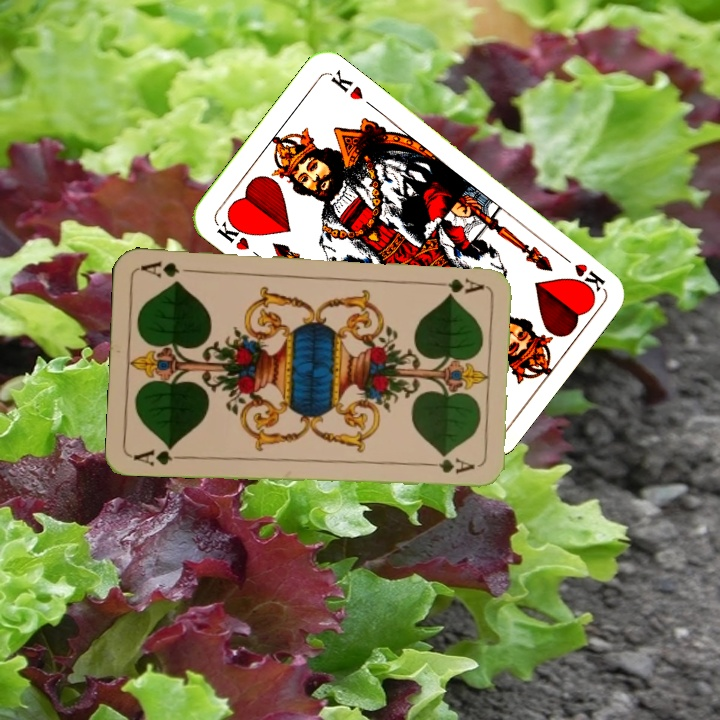GA: (130, 442, 189, 468), (427, 274, 486, 295)
HK: (212, 213, 263, 260), (555, 249, 608, 294)
